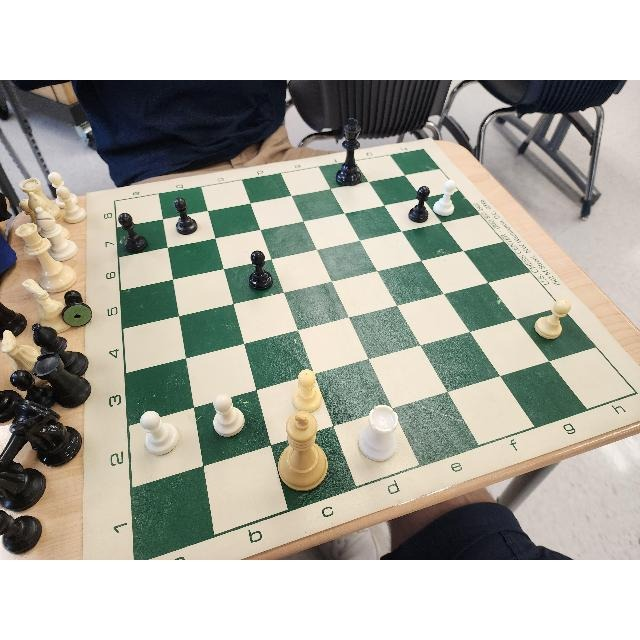black-king: (336, 112, 364, 192)
black-pawn: (111, 209, 153, 257), (167, 194, 201, 238), (246, 248, 276, 292), (404, 183, 431, 229)
white-king: (276, 411, 328, 497)
white-pawn: (132, 411, 184, 456), (533, 293, 574, 345), (206, 392, 248, 439), (284, 366, 324, 414), (433, 176, 460, 223)
white-rook: (358, 403, 402, 465)
